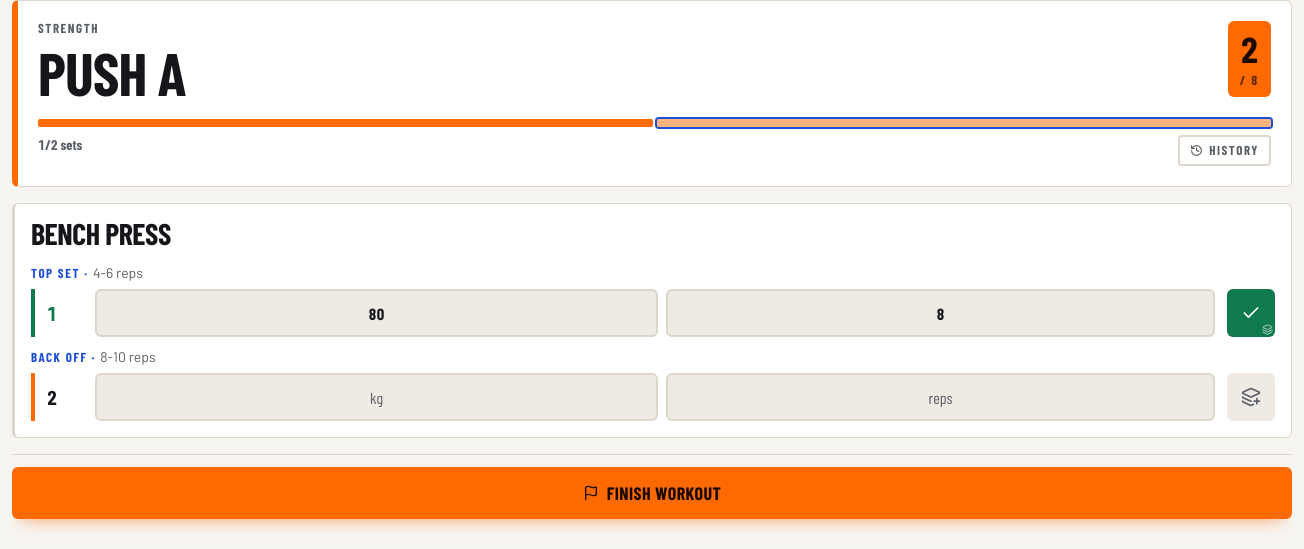
TodayWorkout › refreshes once the last set of the day is logged
Step 1. Type "60" into the field named "Weight set 2" → [377, 397], box [95, 373, 658, 421]
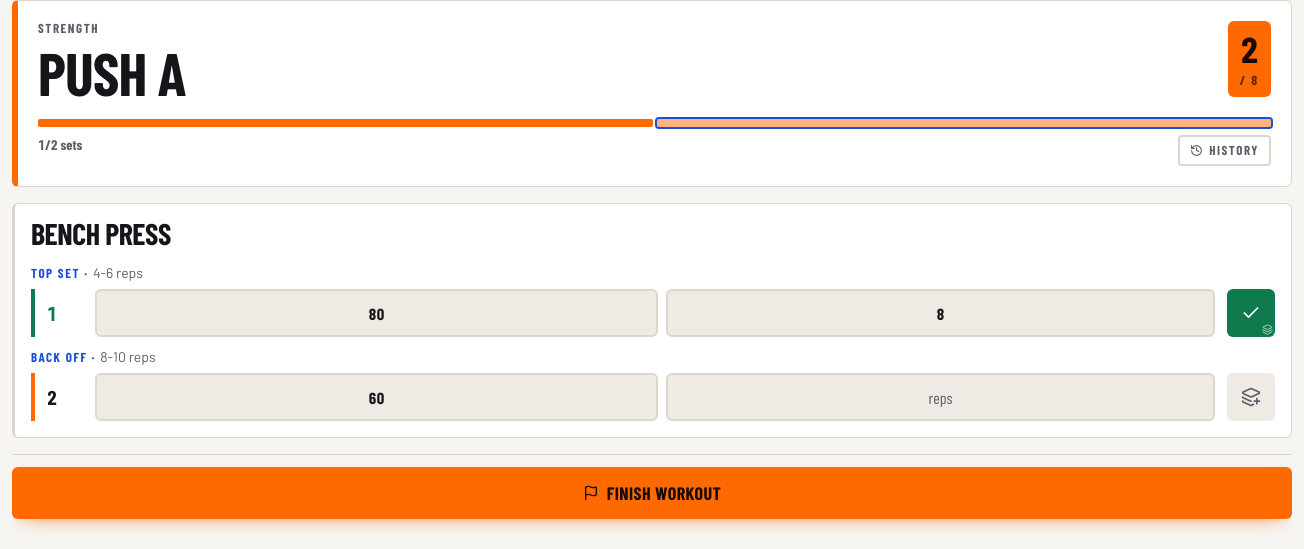
Step 2. Type "10" into the field named "Reps set 2" → [941, 397], box [666, 373, 1215, 421]
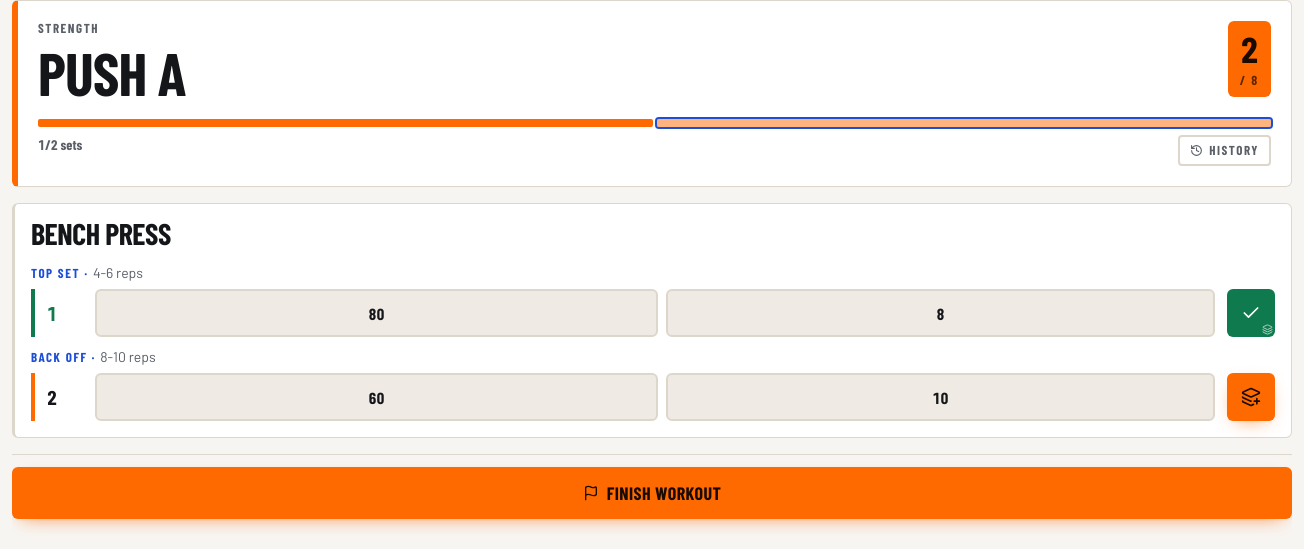
Step 3. Click the button named "Save set 2" → [1251, 397], box [1227, 373, 1275, 421]
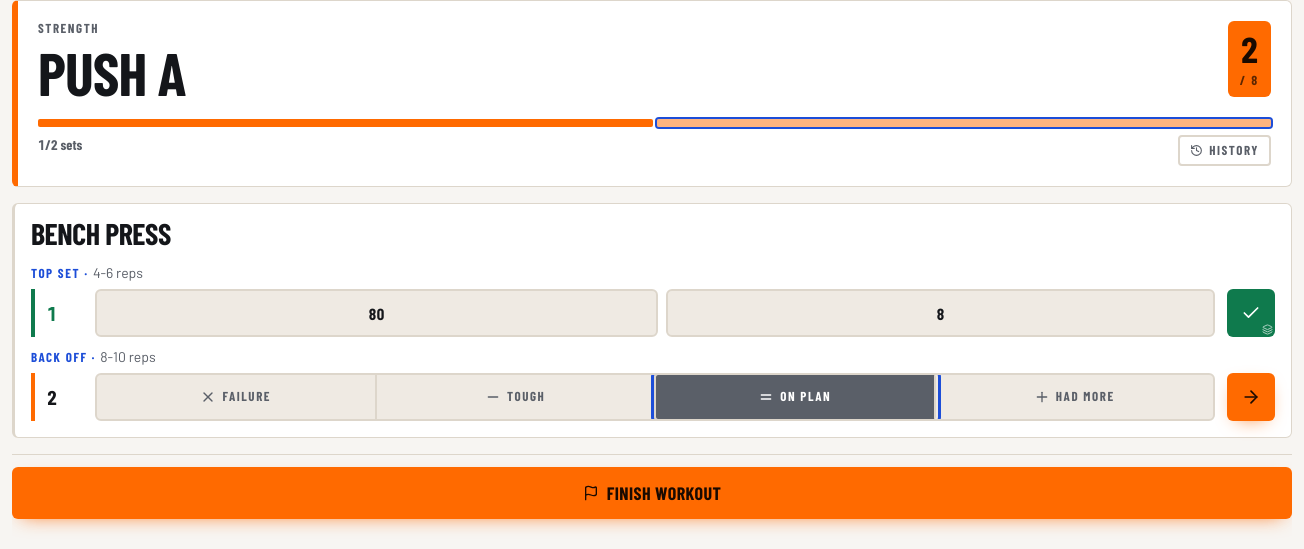
Step 4. Click the button named "Bank set 2" → [1251, 397], box [1227, 373, 1275, 421]
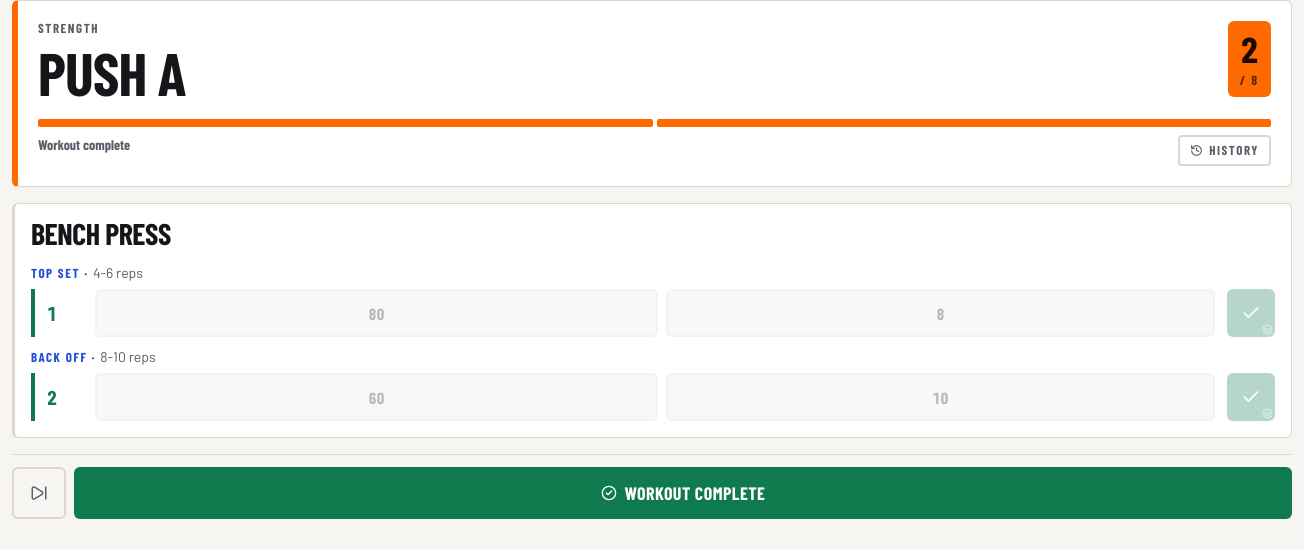
Expected: the message "Workout complete" is shown, [74, 467, 1292, 519]
